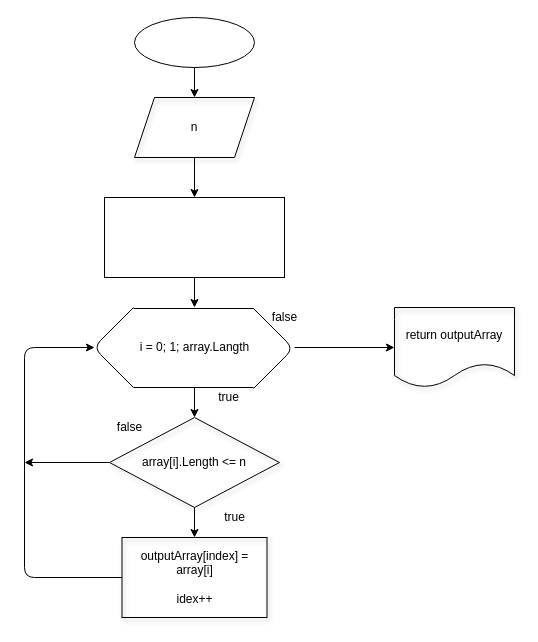
Image size: 538x642. Some labels were removed from this diagram. The shapes that lost their labels are listed below. From the top down, each one's centre as x and y in pixels, then its label:
pixel 194 42: Start
pixel 194 237: outputArray[ ] = [array.Length] index = 0
